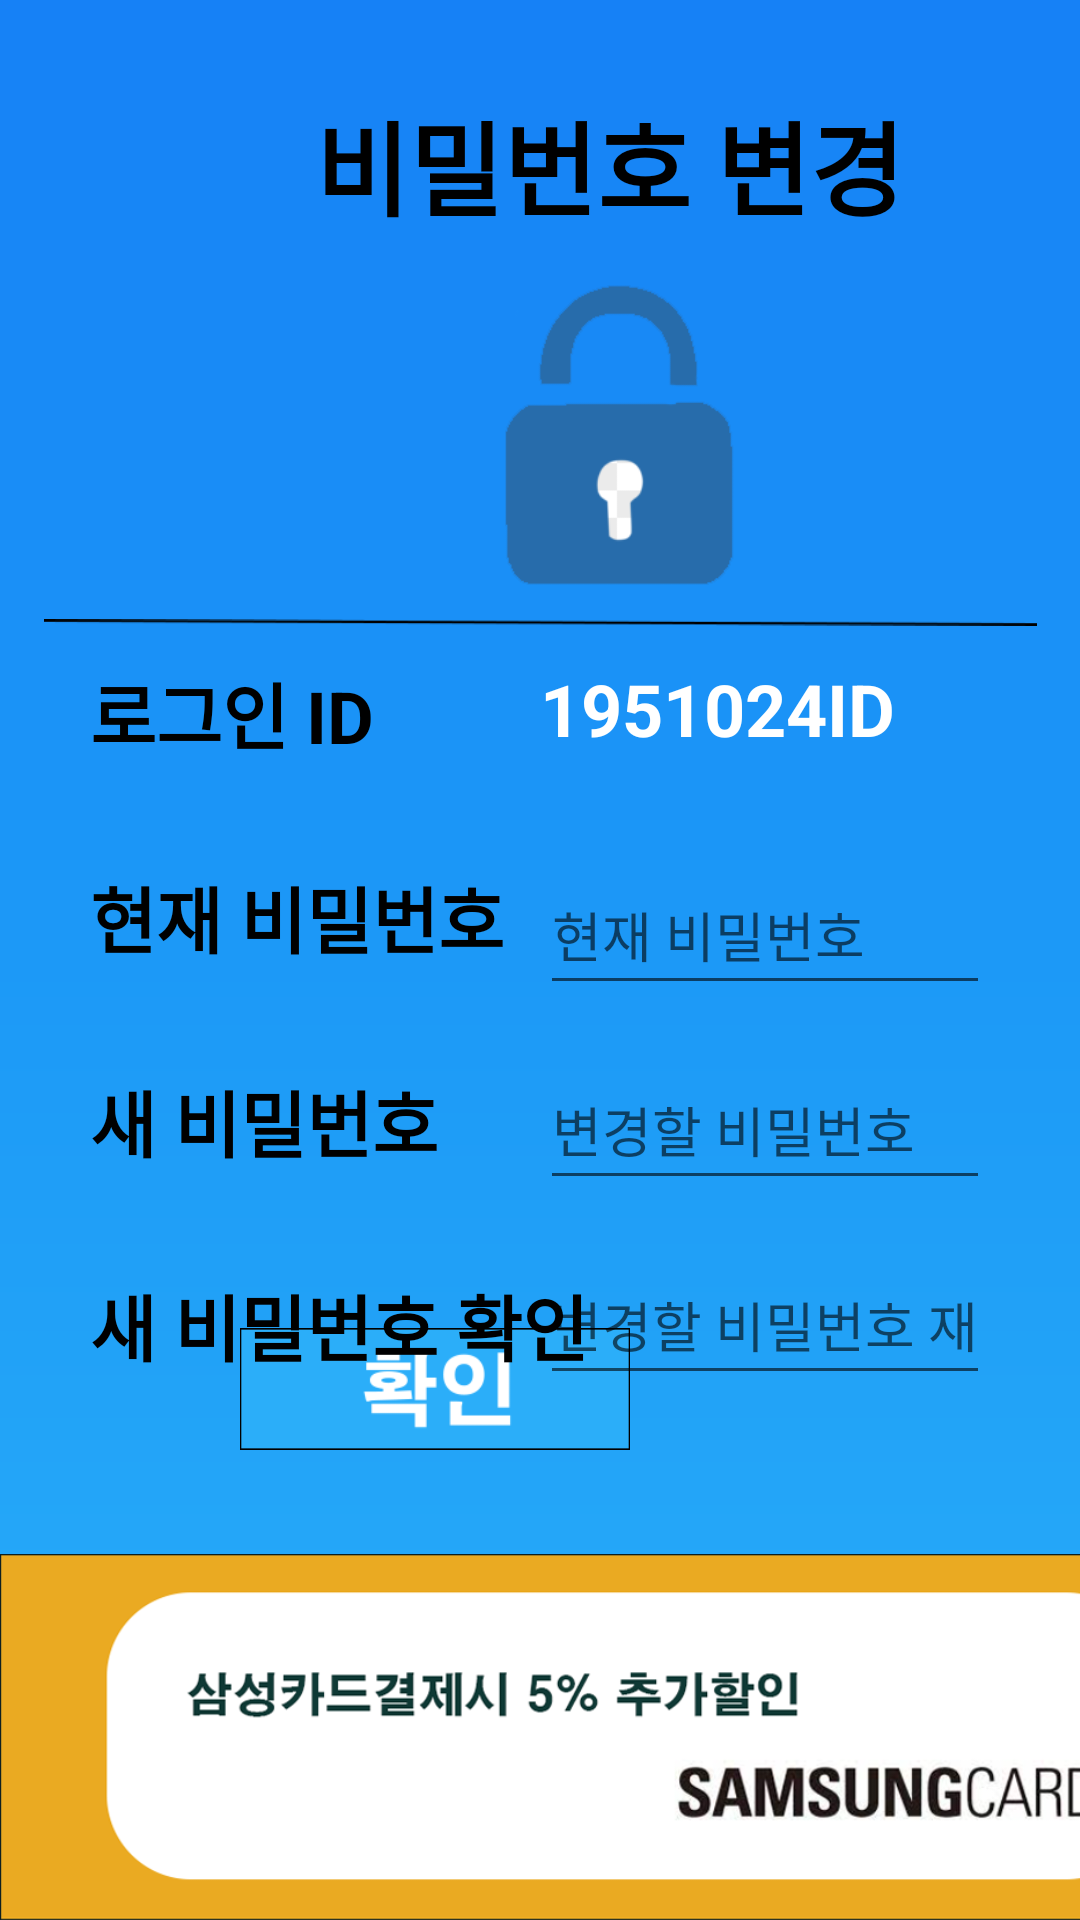

Icons on this 1080x1920 Android screen, each with the point to tap as point (x, y):
lock: point (619, 435)
